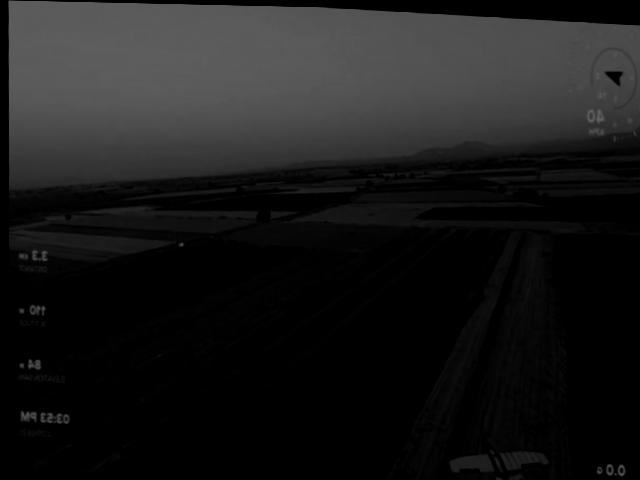hedef: (435, 430, 550, 480)
